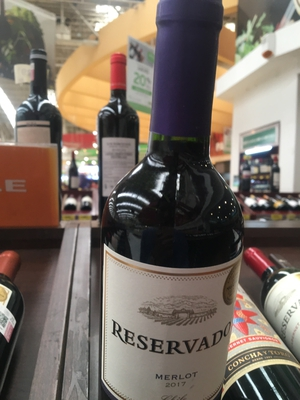reservado merlot: (94, 1, 253, 400)
